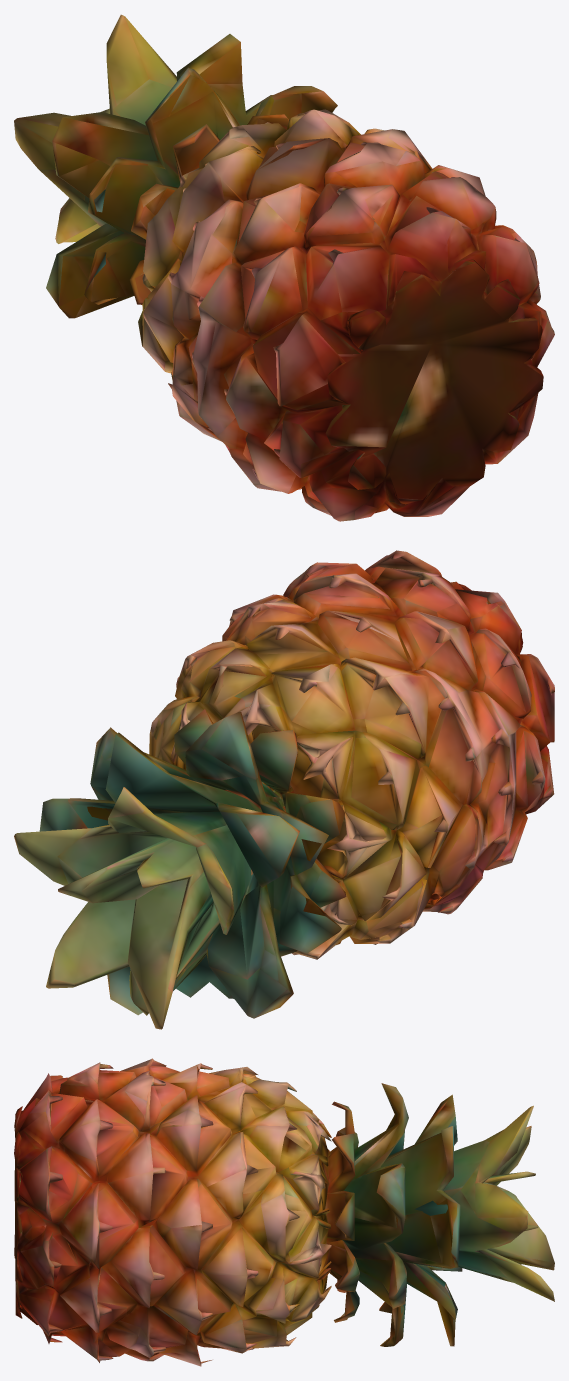
The picture shows the model from 3 angles, top to bottom: view 1: azimuth 30°, elevation 25°; view 2: azimuth 150°, elevation 25°; view 3: azimuth 270°, elevation 25°; orthographic projection. The views are drawn at different scales.
Parts seen in each view (by area): view 1: material; view 2: material; view 3: material.
Part boxes in pixels (bbox=[...]): material: bbox=[14, 14, 554, 521]; material: bbox=[14, 550, 554, 1029]; material: bbox=[14, 1058, 554, 1366].
Size of the model in its own units: 0.5592 by 0.5778 by 1.
1 material, 1 textured.
